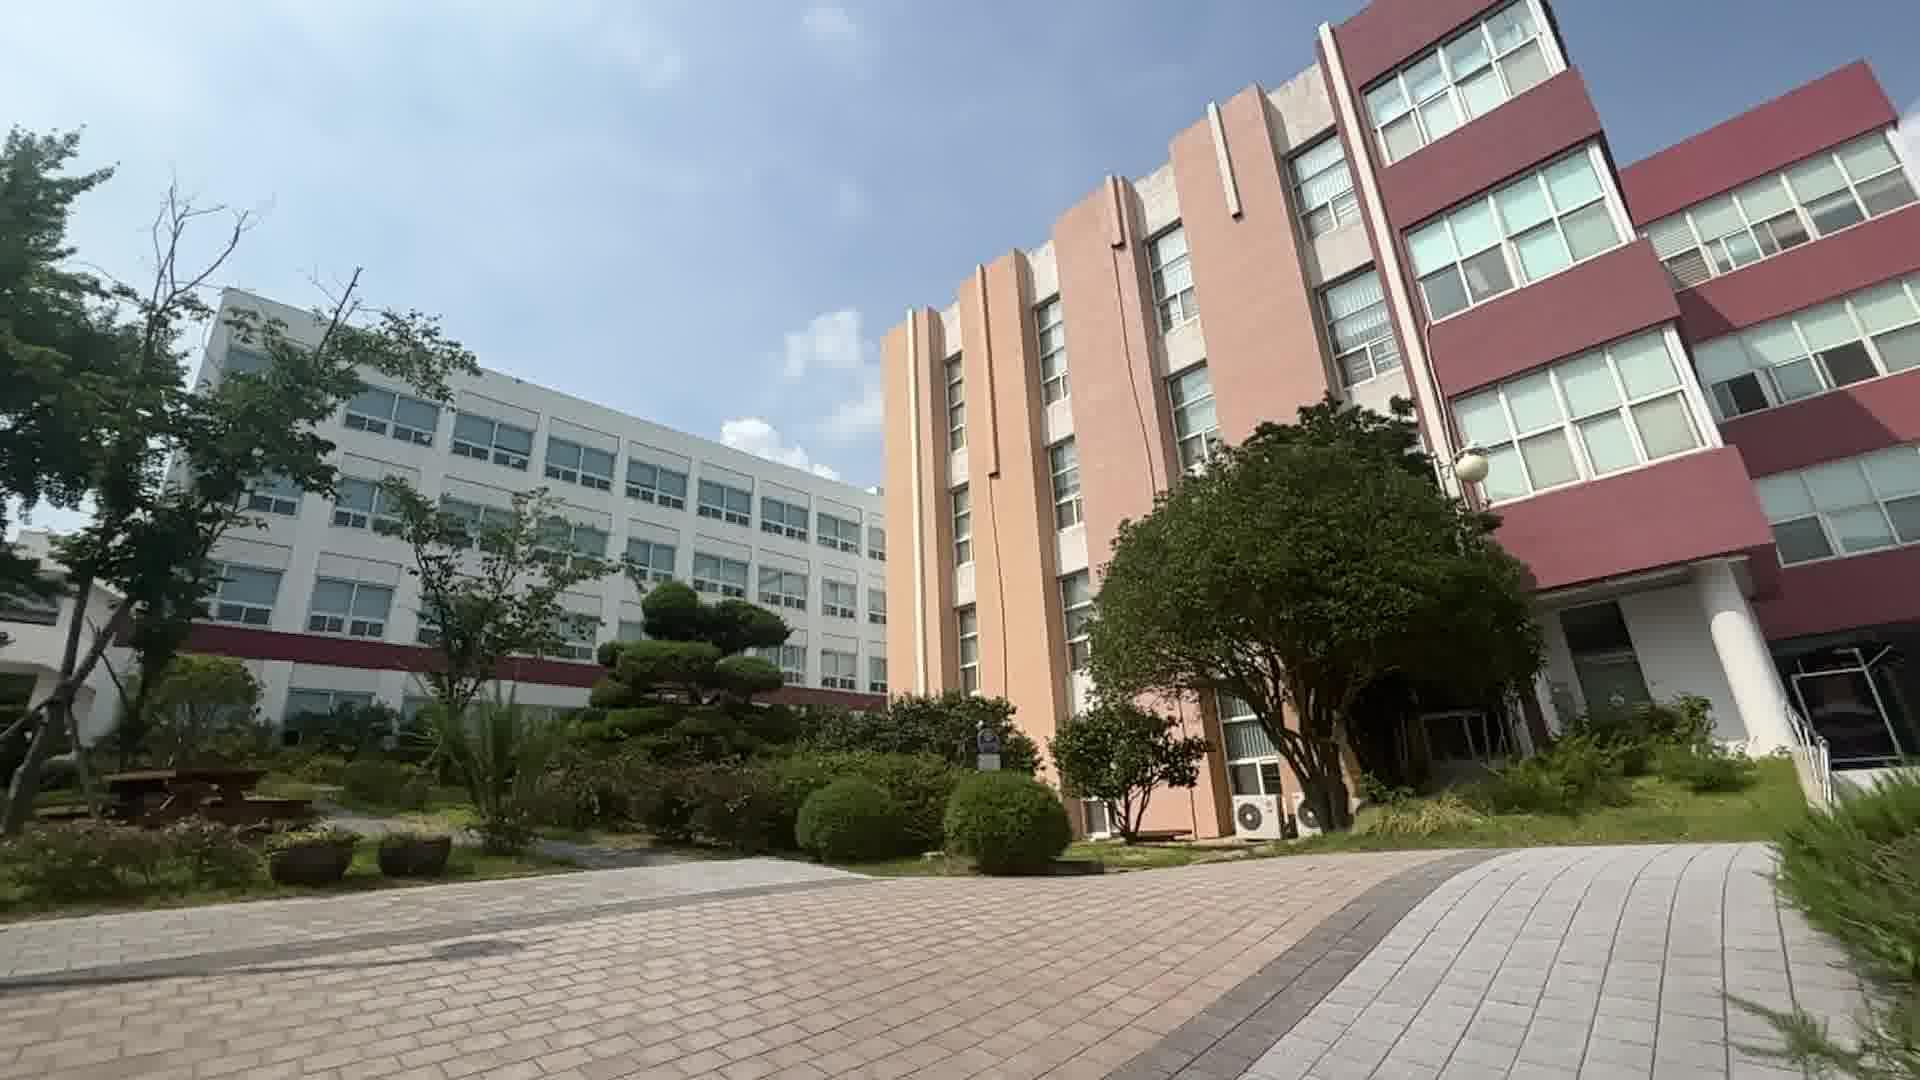building: (841, 0, 1920, 696), (211, 297, 878, 713)
